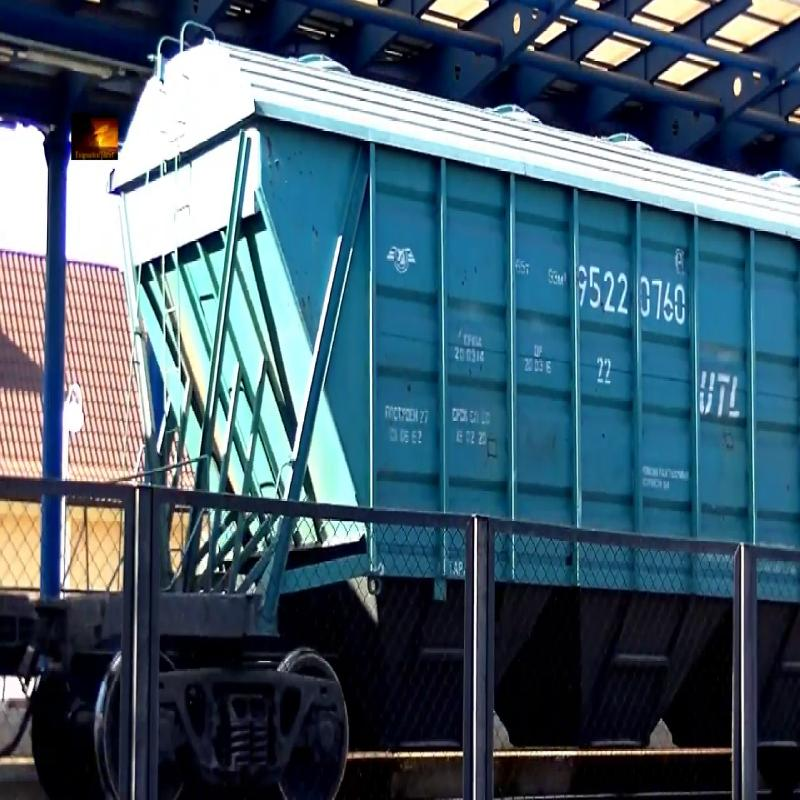train: (105, 2, 800, 742)
